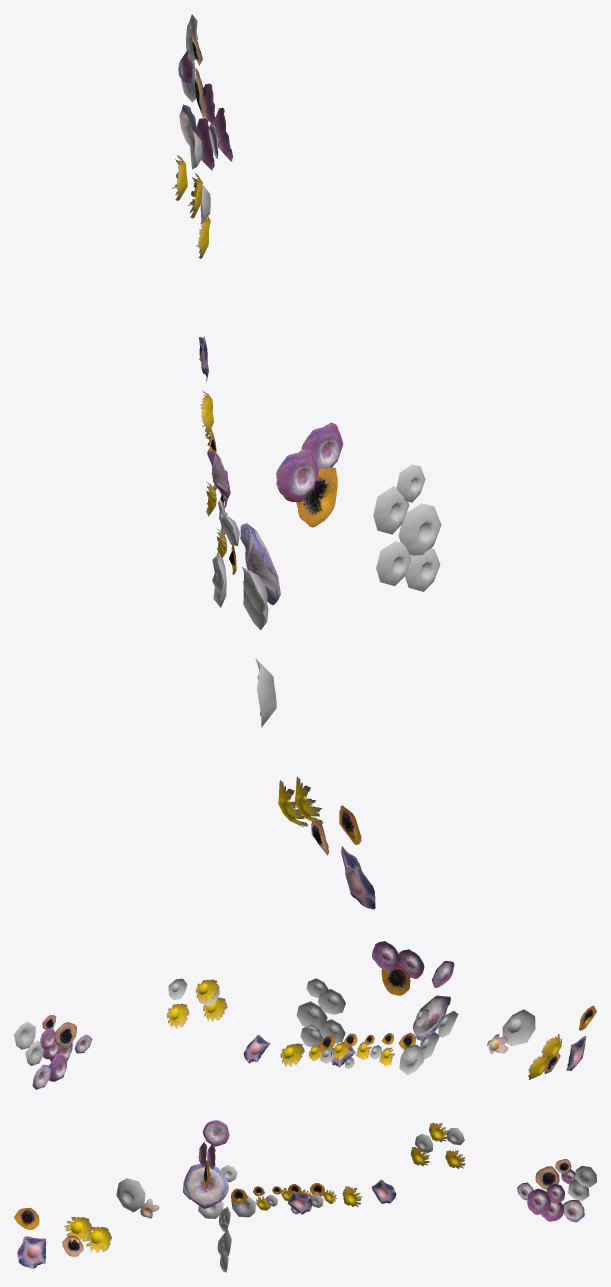
The model's file is Right_Flower13.fbx.
3 views of the same model, one above another, from view 1: azimuth 30°, elevation 25°; view 2: azimuth 150°, elevation 25°; view 3: azimuth 270°, elevation 25° (orthographic). The views are drawn at different scales.
Visible parts, largest first — view 1: Circle.1941, Circle.1914, Circle.1530, Circle.1942, Circle.1940, Circle.1917, Circle.1916; view 2: Circle.1533, Circle.1530, Circle.1942, Circle.1914, Circle.1940, Circle.1509, Circle.1941, Circle.1917, Circle.1061, Circle.1507, Circle.1046, Circle.1538 (+20 smaller); view 3: Circle.1530, Circle.1506, Circle.1533, Circle.1532, Circle.1494, Circle.1495, Circle.1059, Circle.1510, Circle.1046, Circle.1507, Circle.1505, Circle.1066 (+14 smaller).
Part boxes in pixels (left/top/right/bottom): Circle.1941: left=276, top=448, right=319, bottom=502; Circle.1914: left=398, top=503, right=441, bottom=555; Circle.1530: left=240, top=523, right=280, bottom=605; Circle.1942: left=296, top=467, right=337, bottom=527; Circle.1940: left=301, top=422, right=343, bottom=468; Circle.1917: left=373, top=486, right=409, bottom=534; Circle.1916: left=376, top=541, right=410, bottom=585; Circle.1533: left=502, top=1009, right=535, bottom=1046; Circle.1530: left=413, top=995, right=450, bottom=1041; Circle.1942: left=381, top=963, right=410, bottom=995; Circle.1914: left=296, top=1001, right=327, bottom=1029; Circle.1940: left=372, top=941, right=400, bottom=970; Circle.1509: left=399, top=1045, right=423, bottom=1074; Circle.1941: left=398, top=949, right=424, bottom=978; Circle.1917: left=318, top=989, right=345, bottom=1014; Circle.1061: left=14, top=1022, right=35, bottom=1049; Circle.1507: left=243, top=1035, right=270, bottom=1063; Circle.1046: left=55, top=1022, right=76, bottom=1047; Circle.1538: left=167, top=1003, right=189, bottom=1028; Circle.1530: left=183, top=1163, right=228, bottom=1208; Circle.1506: left=17, top=1236, right=46, bottom=1268; Circle.1533: left=116, top=1178, right=145, bottom=1212; Circle.1532: left=202, top=1120, right=229, bottom=1146; Circle.1494: left=64, top=1217, right=92, bottom=1242; Circle.1495: left=83, top=1226, right=111, bottom=1252; Circle.1059: left=527, top=1188, right=550, bottom=1214; Circle.1510: left=14, top=1207, right=39, bottom=1229; Circle.1046: left=535, top=1166, right=559, bottom=1189; Circle.1507: left=371, top=1179, right=396, bottom=1203; Circle.1505: left=287, top=1191, right=312, bottom=1214; Circle.1066: left=563, top=1200, right=584, bottom=1222.
Bounding box in the file's own units: 128 × 120 × 312.
